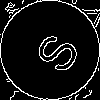S: (25, 25, 82, 77)
